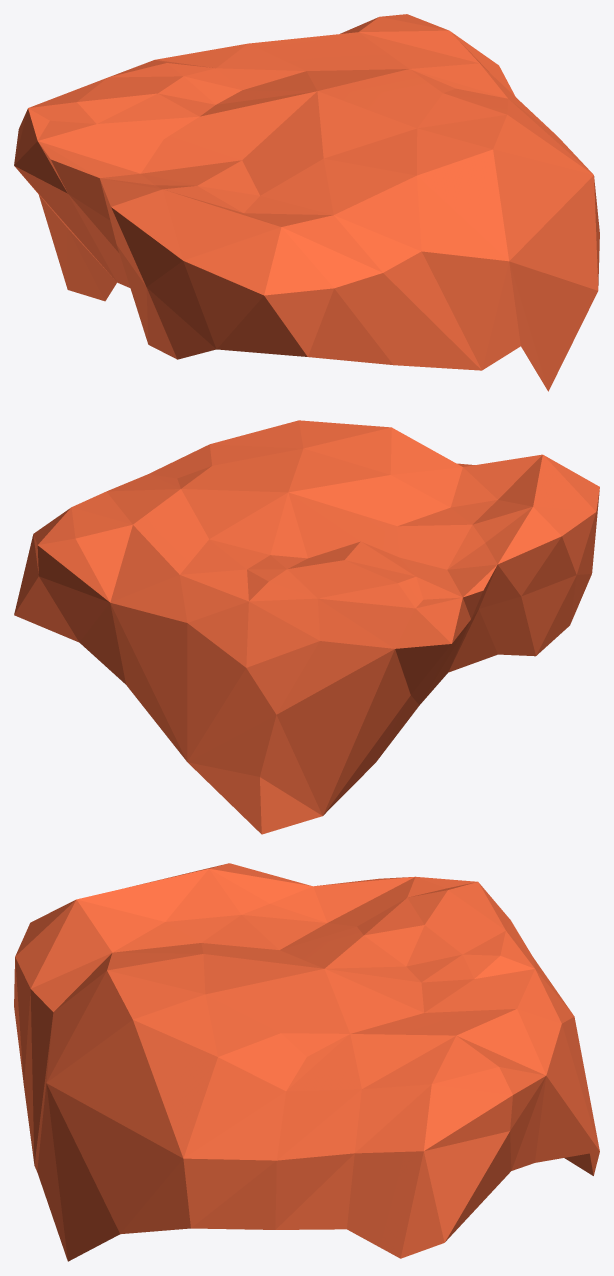
The model's file is ground_031.fbx.
3 views of the same model, one above another, from view 1: azimuth 30°, elevation 25°; view 2: azimuth 150°, elevation 25°; view 3: azimuth 270°, elevation 25° (orthographic). The views are drawn at different scales.
Visible parts, largest first — view 1: ground.031; view 2: ground.031; view 3: ground.031.
Boxes of the visible parts, x1,y1,x2,y2 form: ground.031: [14, 14, 599, 391]; ground.031: [14, 420, 599, 834]; ground.031: [14, 863, 599, 1261].
Size of the model in its own units: 2139 by 1033 by 2119.
1 material, 1 textured.
